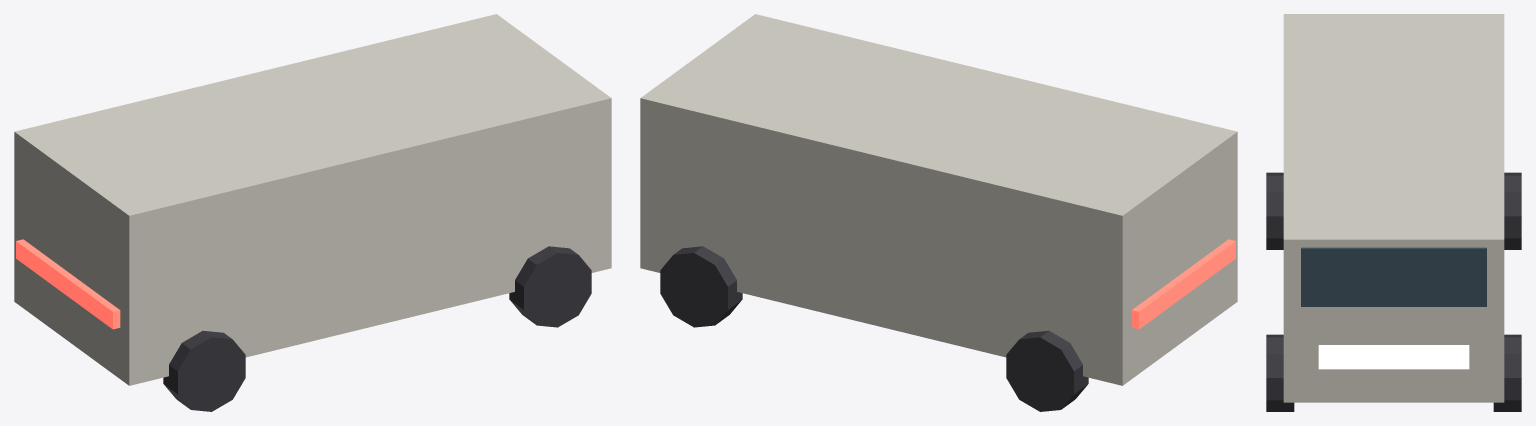
File: vehicle_van.glb
The picture shows the model from 3 angles, left to right: view 1: azimuth 30°, elevation 25°; view 2: azimuth 150°, elevation 25°; view 3: azimuth 270°, elevation 25°; orthographic projection. The views are drawn at different scales.
Parts seen in each view (by area): view 1: Cube, Cylinder.001, Cylinder, Cube.003; view 2: Cube, Cylinder.003, Cylinder.002, Cube.003; view 3: Cube, Cube.001, Cube.002, Cylinder, Cylinder.002, Cylinder.001, Cylinder.003.
Boxes of the visible parts, x1,y1,x2,y2 form: Cube: [14, 14, 611, 385]; Cylinder.001: [163, 330, 245, 411]; Cylinder: [509, 246, 591, 327]; Cube.003: [16, 239, 120, 329]; Cube: [640, 14, 1237, 385]; Cylinder.003: [1006, 330, 1088, 411]; Cylinder.002: [660, 246, 742, 327]; Cube.003: [1131, 239, 1235, 329]; Cube: [1283, 14, 1504, 402]; Cube.001: [1301, 247, 1486, 306]; Cube.002: [1318, 345, 1469, 369]; Cylinder: [1266, 334, 1294, 411]; Cylinder.002: [1493, 334, 1521, 411]; Cylinder.001: [1266, 172, 1283, 249]; Cylinder.003: [1504, 172, 1521, 249].
Bounding box in the file's own units: 4.74 × 1.89 × 2.2.
